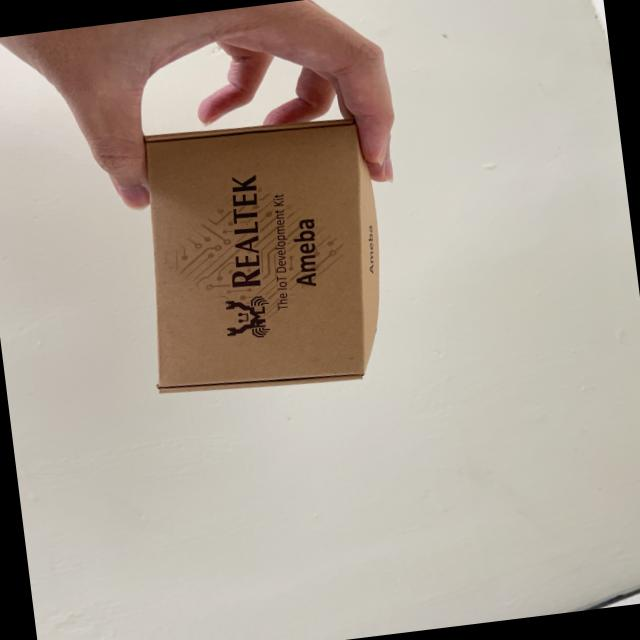box: (111, 90, 406, 428)
